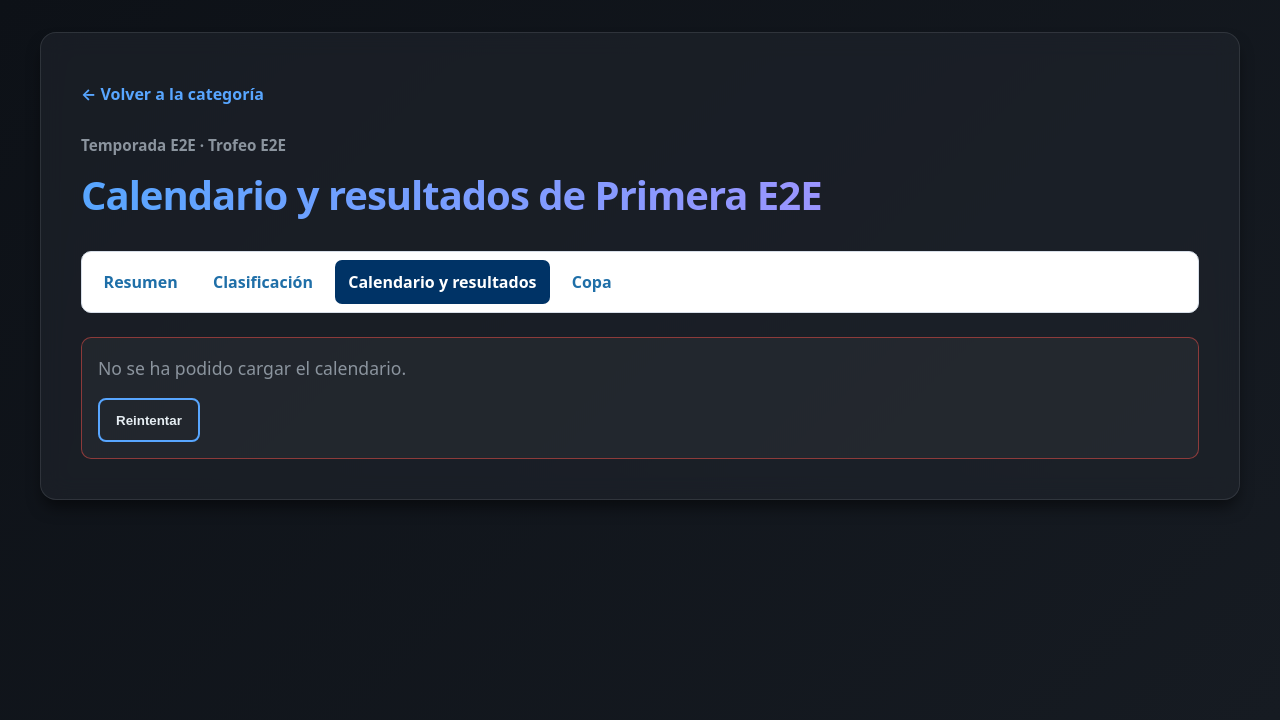
Test case: Schedule › retries the schedule without losing the loaded category context
This screenshot has width=1280, height=720.
What coordinates should you click on to do the following:
click the button "Reintentar"
I would click on:
 (149, 420)
Its box is top-left (98, 398), bottom-right (200, 442).
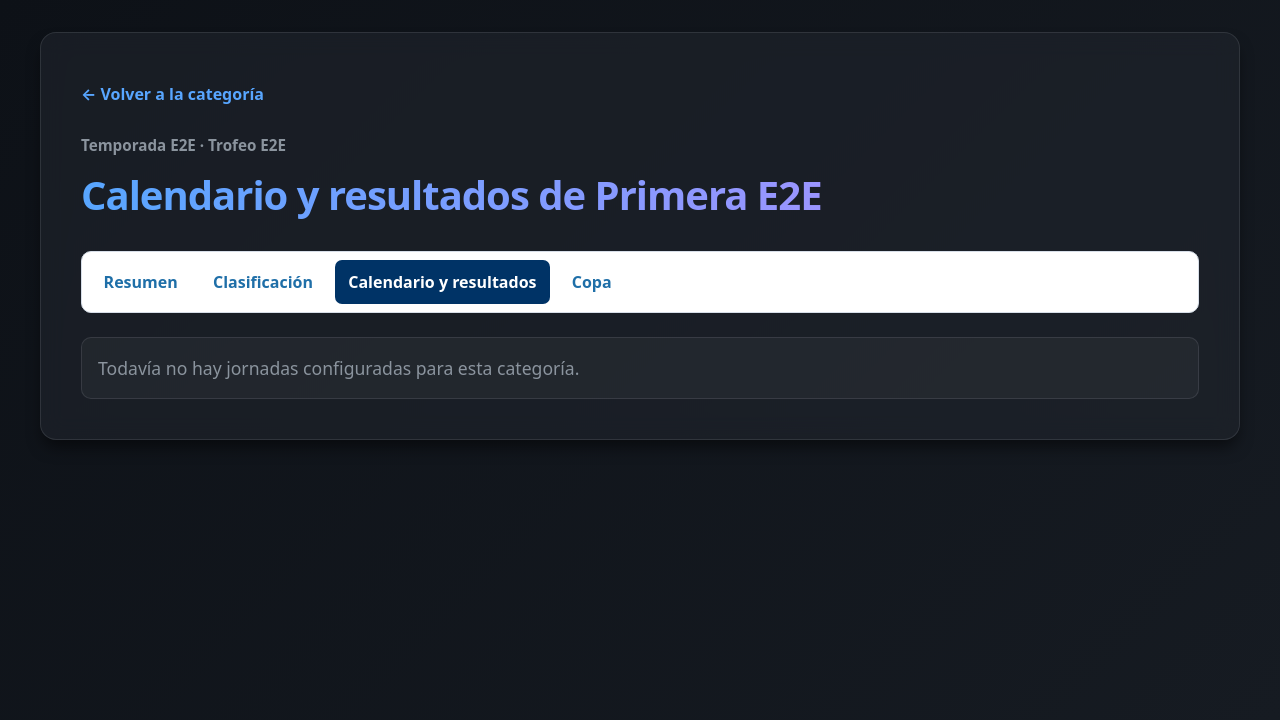
Check: the text "Todavía no hay jornadas configuradas para esta categoría." is shown, box top-left (81, 337), bottom-right (1199, 399)
